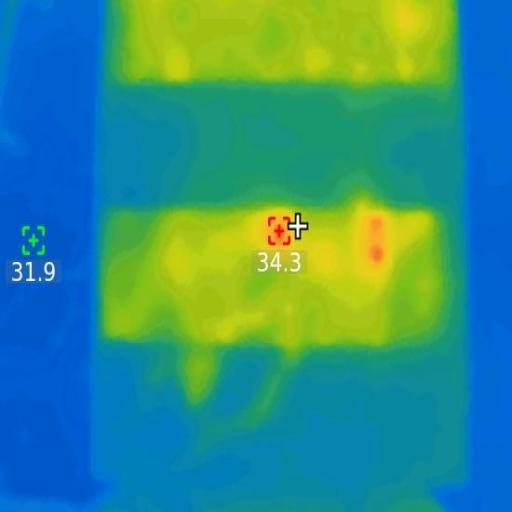hotspot: (366, 216, 386, 266), (267, 214, 293, 249)
